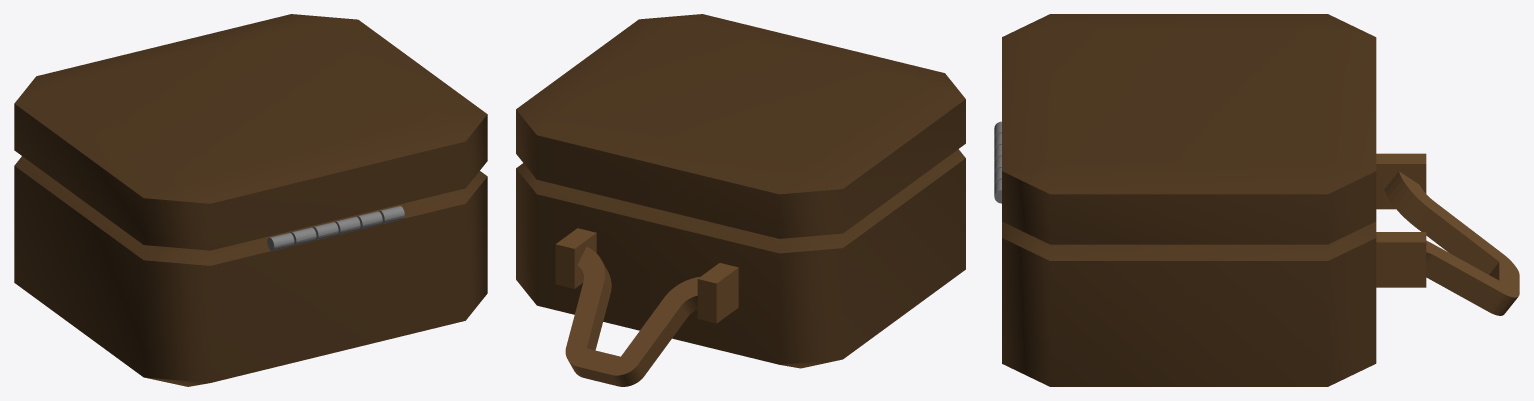
File: Suitcases.glb
3 views of the same model, side by side, from view 1: azimuth 30°, elevation 25°; view 2: azimuth 150°, elevation 25°; view 3: azimuth 270°, elevation 25° (orthographic). The views are drawn at different scales.
Parts seen in each view (by area): view 1: SuitcaseLid, SuitcaseBottom; view 2: SuitcaseLid, SuitcaseBottom, Handle2, Handle2MountLeft (×2); view 3: SuitcaseLid, SuitcaseBottom, Handle2, Handle2MountLeft (×2).
Part boxes in pixels (bbox=[...]): SuitcaseLid: bbox=[14, 14, 487, 250]; SuitcaseBottom: bbox=[14, 156, 487, 386]; SuitcaseLid: bbox=[516, 14, 965, 238]; SuitcaseBottom: bbox=[516, 149, 965, 368]; Handle2: bbox=[565, 247, 699, 386]; Handle2MountLeft (×2): bbox=[555, 228, 738, 323]; SuitcaseLid: bbox=[1002, 14, 1376, 244]; SuitcaseBottom: bbox=[1002, 221, 1376, 386]; Handle2: bbox=[1384, 171, 1519, 315]; Handle2MountLeft (×2): bbox=[1376, 153, 1426, 287].
Size of the model in its own units: 0.171 by 0.0987 by 0.2104.
